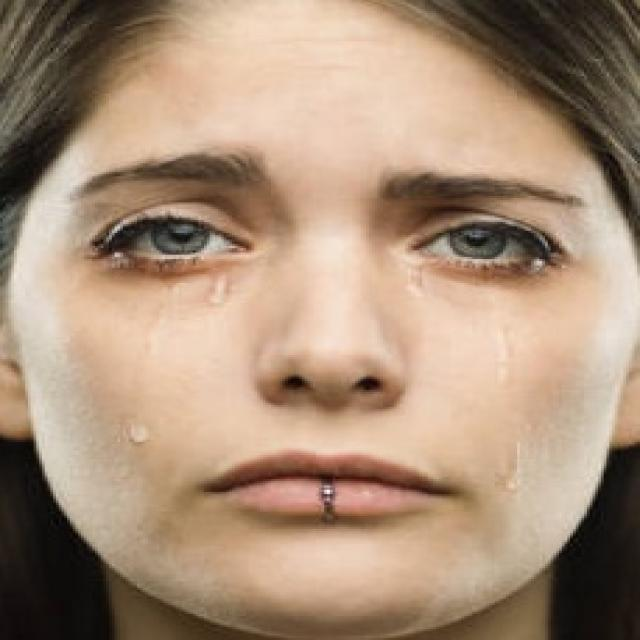Anxiety: (2, 0, 637, 638)
